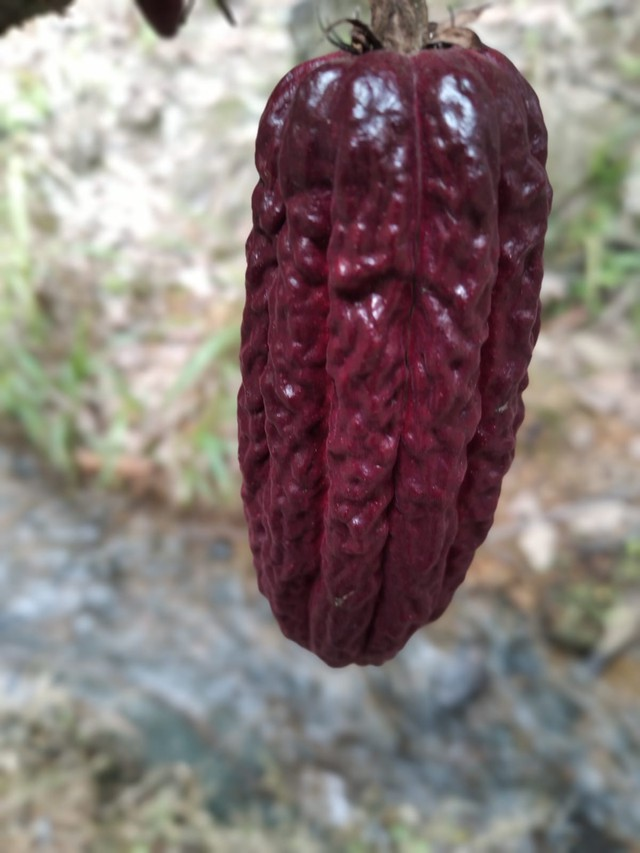Health: (183, 6, 578, 691)
